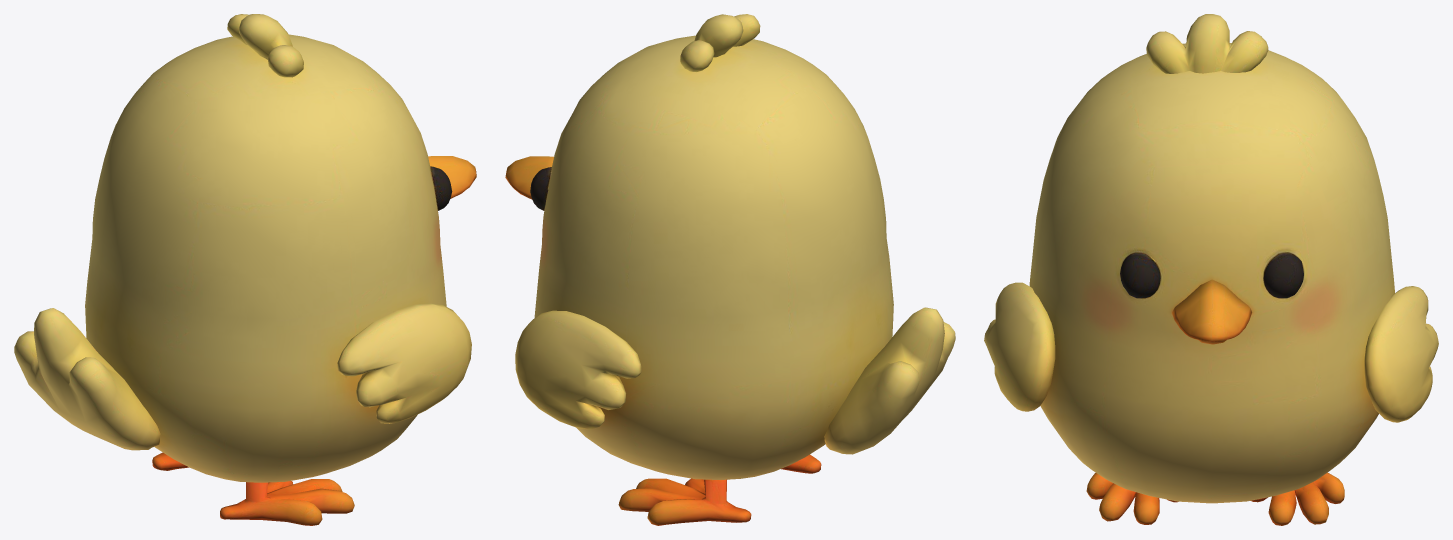
The model's file is chick.glb.
3 views of the same model, side by side, from view 1: azimuth 30°, elevation 25°; view 2: azimuth 150°, elevation 25°; view 3: azimuth 270°, elevation 25° (orthographic). The views are drawn at different scales.
Visible parts, largest first — view 1: tripo_node_a657701e-f449-4b68-bf3c-5528b94a74d7; view 2: tripo_node_a657701e-f449-4b68-bf3c-5528b94a74d7; view 3: tripo_node_a657701e-f449-4b68-bf3c-5528b94a74d7.
Part boxes in pixels (box(x1,y1,x2,y2)): tripo_node_a657701e-f449-4b68-bf3c-5528b94a74d7: box(14, 14, 476, 525); tripo_node_a657701e-f449-4b68-bf3c-5528b94a74d7: box(505, 14, 955, 525); tripo_node_a657701e-f449-4b68-bf3c-5528b94a74d7: box(984, 14, 1438, 525).
Bounding box in the file's own units: 0.9746 × 0.998 × 0.8496.
1 material, 1 textured.
